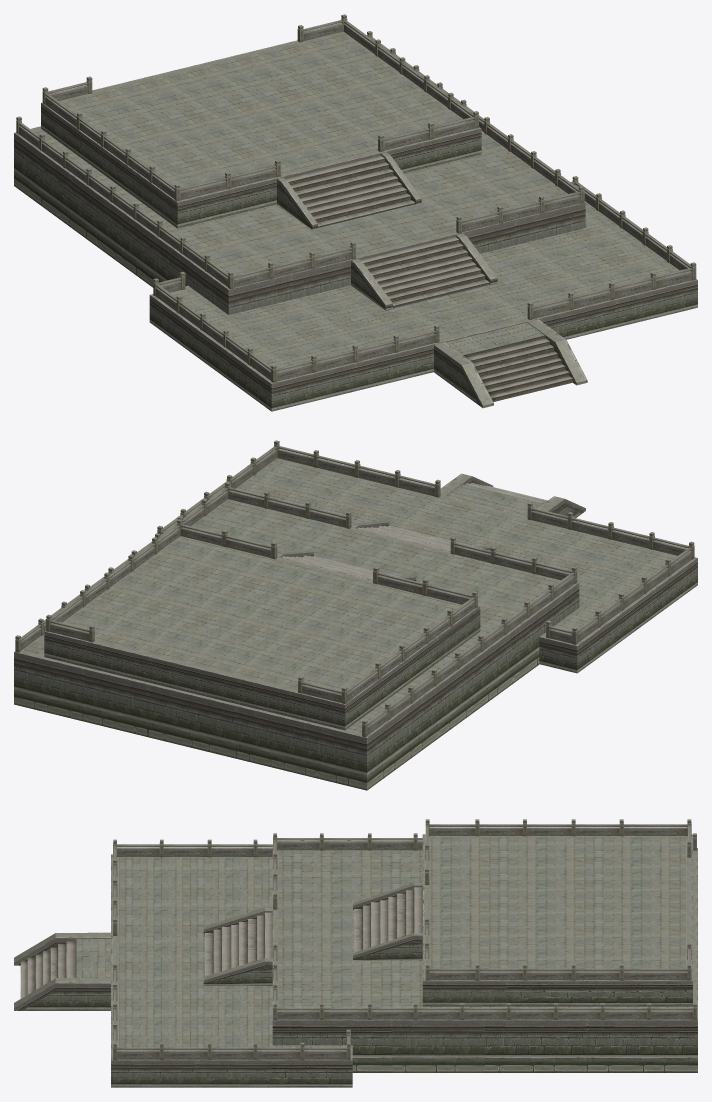
Rendered from Youshuizhou_zhiwu_084_1.FBX.
The picture shows the model from 3 angles, top to bottom: view 1: azimuth 30°, elevation 25°; view 2: azimuth 150°, elevation 25°; view 3: azimuth 270°, elevation 25°; orthographic projection.
Parts seen in each view (by area): view 1: Object368, Object369; view 2: Object368, Object369; view 3: Object369, Object368.
Boxes of the visible parts, <box> form: Object368: <box>14,14,697,411</box>; Object369: <box>34,32,679,371</box>; Object368: <box>14,440,697,790</box>; Object369: <box>22,459,676,733</box>; Object369: <box>76,837,690,1050</box>; Object368: <box>14,819,697,1087</box>.
Bounding box in the file's own units: 21.79 × 4.6 × 30.55.
Materials: 3 (3 with a texture image).
